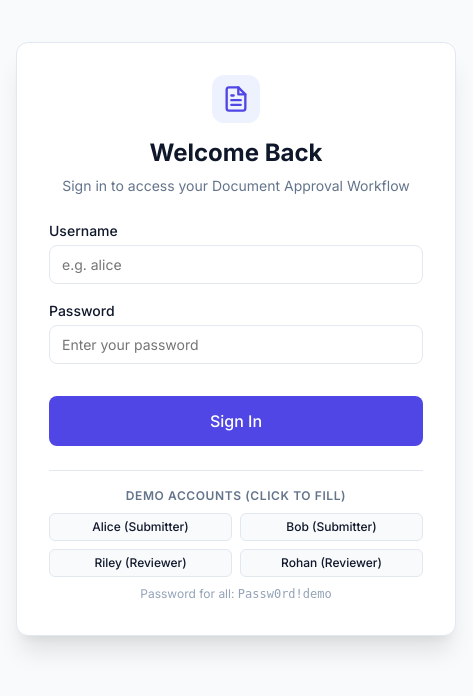
Scenario: Frontend: Login Page › shows inline validation errors when submitting empty form
Click the button "Sign In". click: (236, 421)
box: [49,396,423,446]
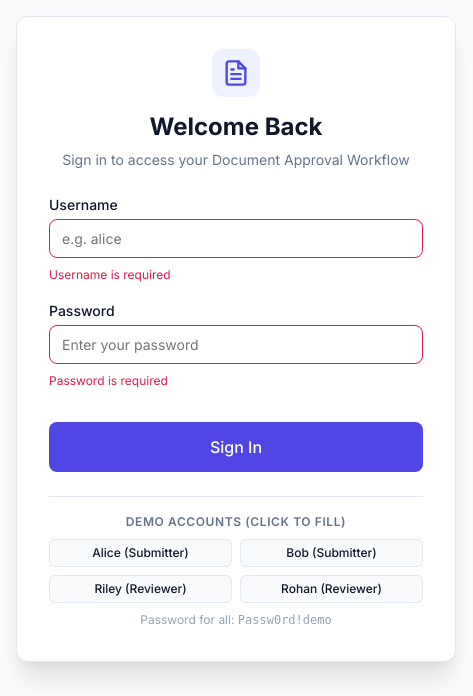
Result: the text "Username is required" is shown at [49,267,171,282]
Result: the text "Password is required" is shown at [49,373,168,388]
